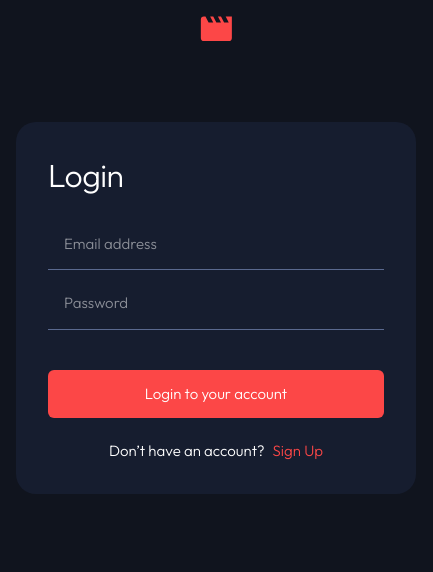
Scenario: LoginPage › shows SIGN_IN_PAUSED
Check: the button "Login to your account" is shown, box [48,370,384,418]
Type "qa1@example.com" into the field labelled "Email address".
click(216, 244); type("qa1@example.com")  # box [64,235,368,253]
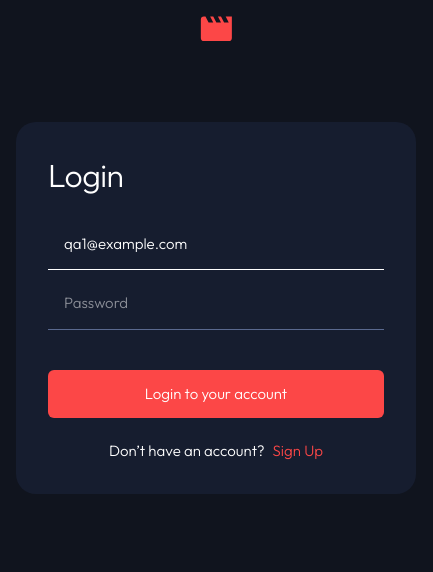
Type "password1" into the password field labelled "Password".
click(216, 304); type("password1")  # box [64,294,368,313]
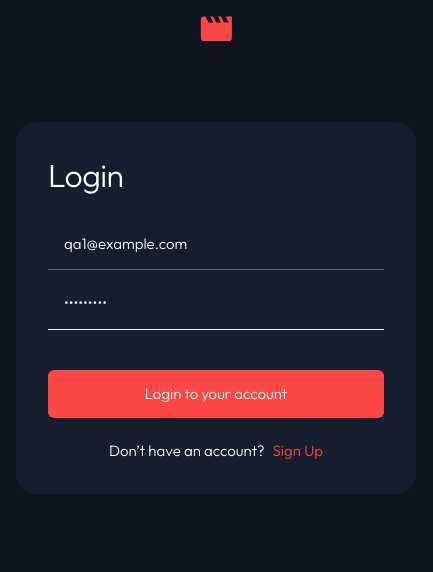
Click the button "Login to your account".
click(216, 394)  # box [48,370,384,418]
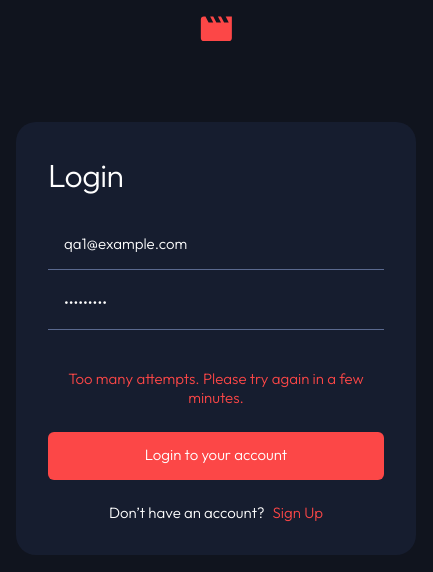
Check: the message reads "Too many attempts. Please try again in a few minutes.", box [68,369,364,407]
